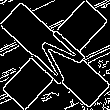M_SE: (21, 21, 89, 89)
